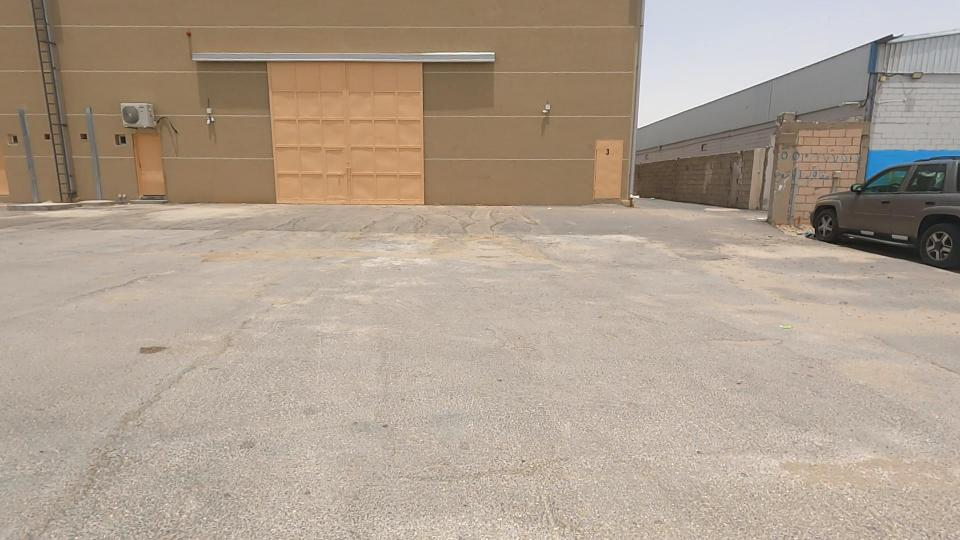POTHOLES: (665, 203, 809, 313), (187, 215, 330, 304), (459, 210, 596, 289), (319, 206, 435, 295)
